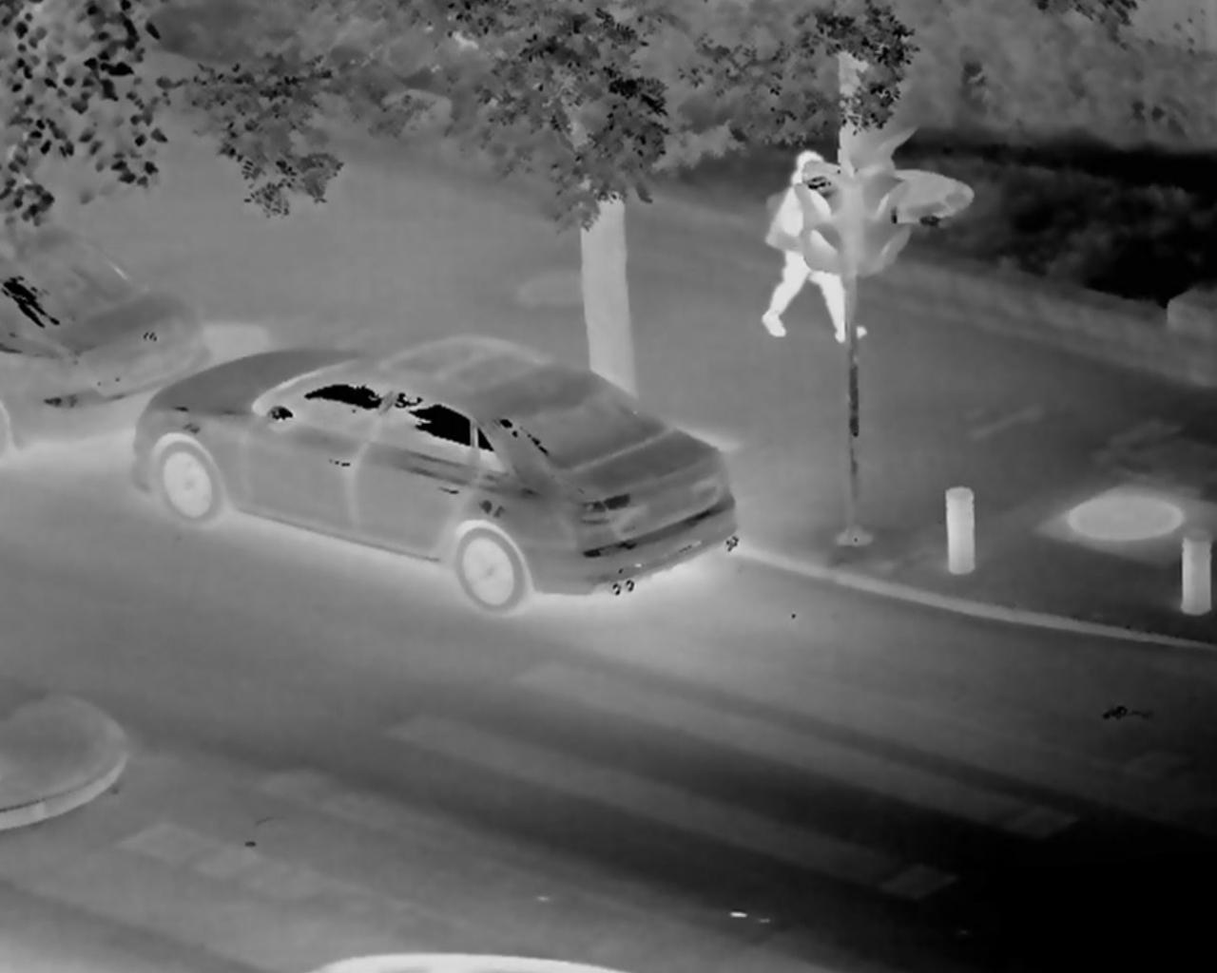person: (755, 144, 879, 349)
